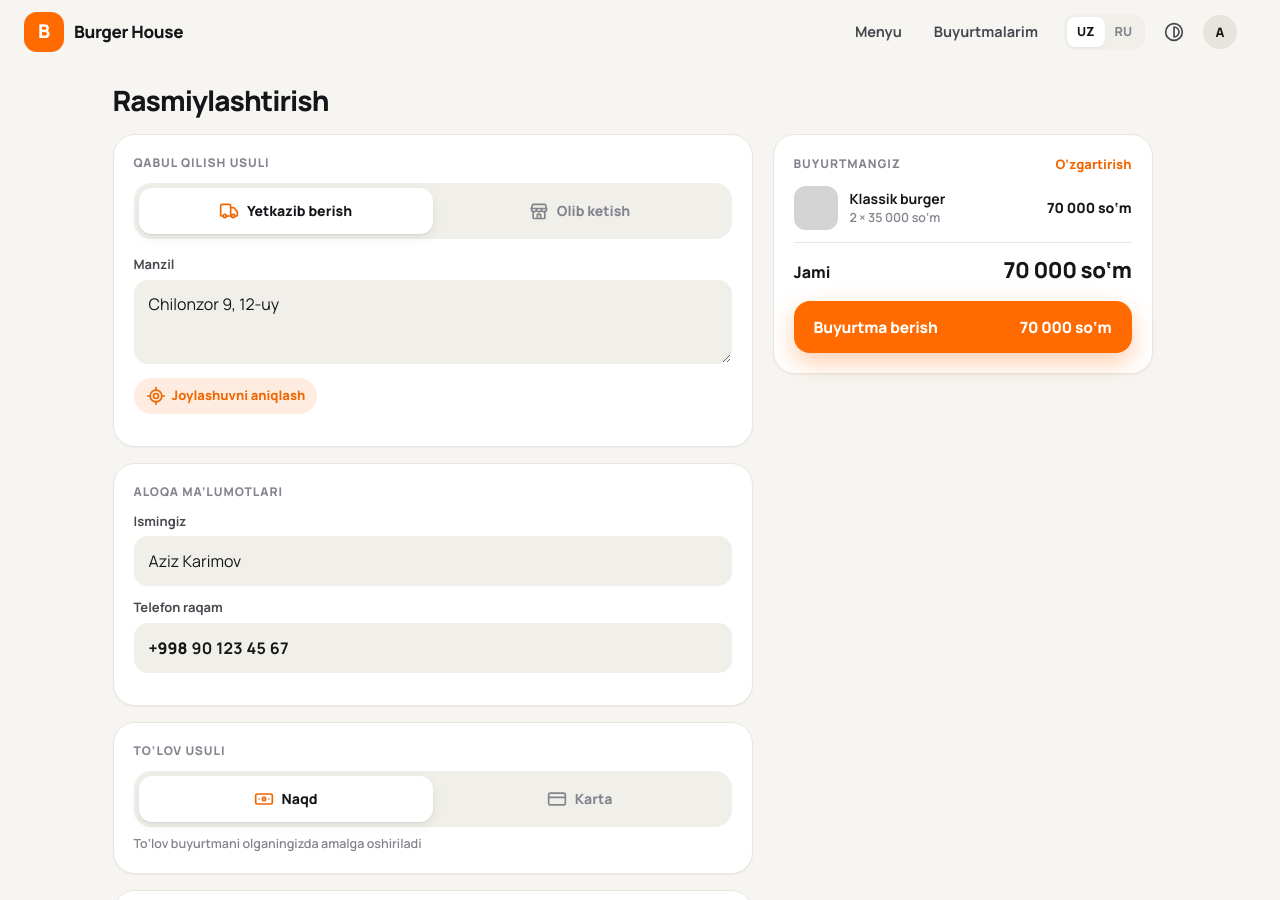
checkout › does not ask for an address for pickup
The width and height of the screenshot is (1280, 900).
Expected: the heading "Rasmiylashtirish" is shown, [112,83,328,118]
Expected: the field showing "Aziz Karimov" is shown, [134,536,732,586]
Click the radio button labelled "Olib ketish". click: (580, 211)
box: [529,201,630,221]
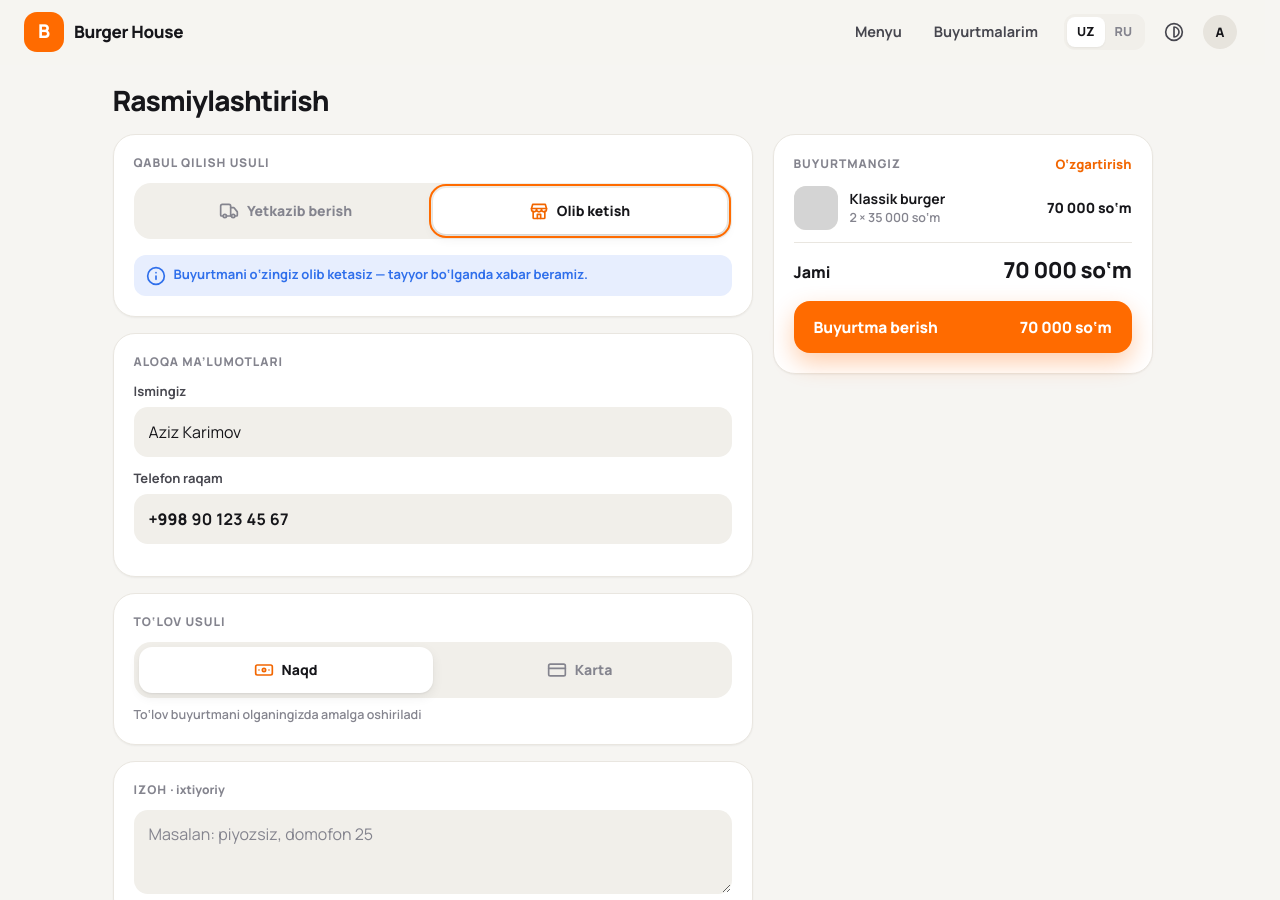
Expected: the label labelled "Manzil" is gone
Expected: the text "Buyurtmani o‘zingiz olib ketasiz — tayyor bo‘lganda xabar beramiz." is shown, [134,255,732,296]
